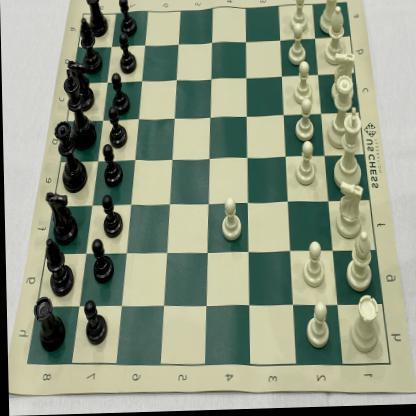black-bishop: (43, 236, 73, 298), (79, 14, 102, 76)
black-king: (63, 68, 96, 152)
black-knight: (46, 188, 76, 244), (66, 59, 95, 113)
black-pawn: (81, 300, 107, 348), (90, 237, 114, 286), (107, 106, 132, 151), (100, 194, 124, 240), (109, 72, 131, 118), (102, 144, 124, 189), (118, 33, 140, 77), (120, 0, 138, 39)
black-queen: (53, 118, 87, 194)
black-rook: (30, 294, 66, 354), (84, 0, 109, 40)
white-bishop: (344, 231, 375, 295), (322, 4, 350, 68)
white-king: (332, 108, 366, 194)
white-knight: (333, 180, 369, 242), (329, 52, 356, 106)
white-pawn: (300, 240, 328, 292), (303, 302, 331, 351), (292, 140, 318, 190), (218, 194, 242, 245), (293, 99, 317, 145), (286, 24, 308, 70), (292, 62, 314, 108), (288, 0, 311, 35)
white-queen: (324, 77, 356, 154)
white-rook: (346, 296, 381, 358), (318, 0, 344, 39)
